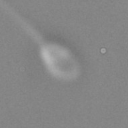normal: (1, 1, 47, 46)
